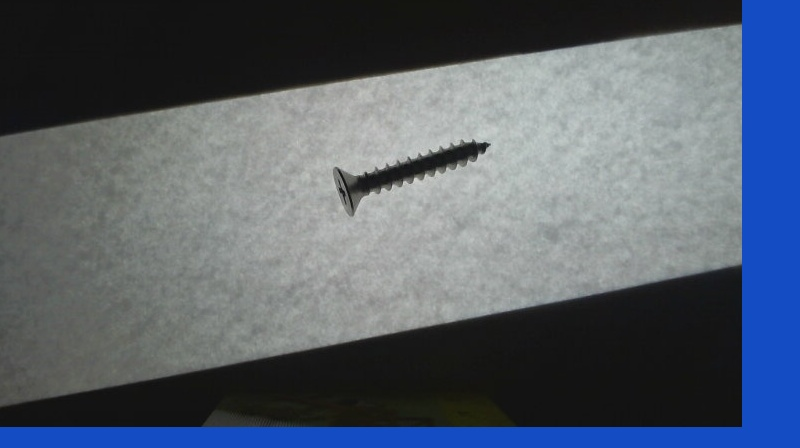S001: (328, 137, 493, 218)
